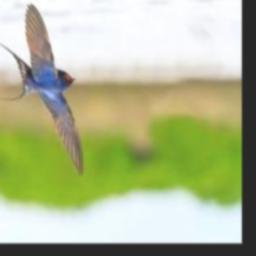Swallow: (0, 4, 84, 179)
